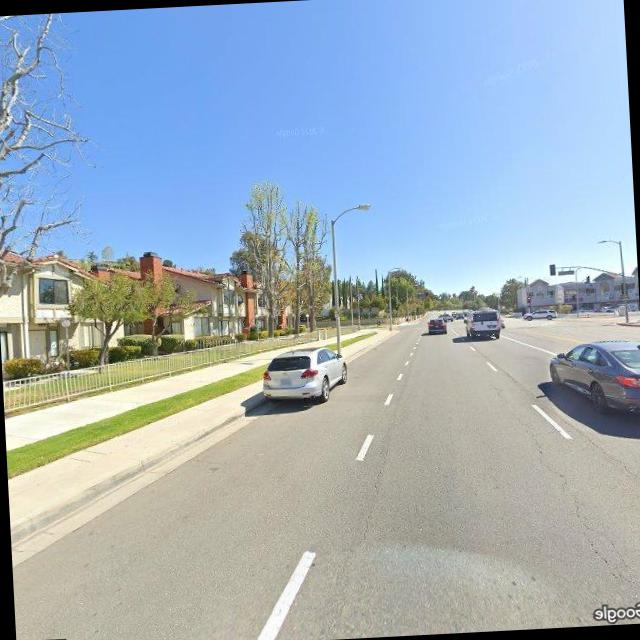crack: (517, 420, 640, 604), (356, 438, 396, 544)
